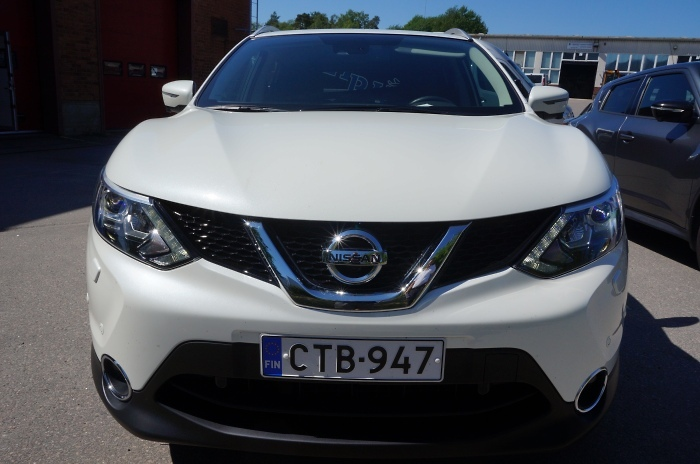license: (257, 337, 442, 382)
